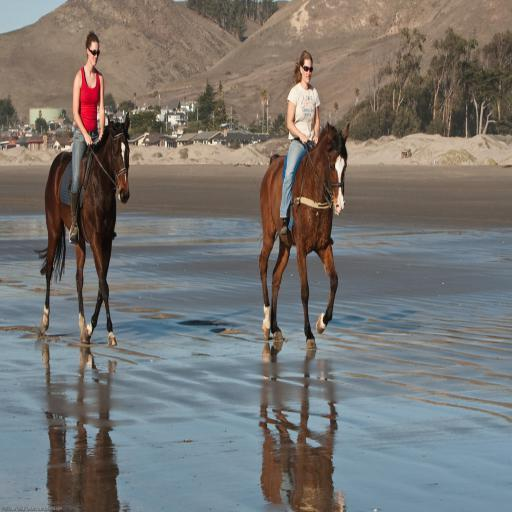horse: (34, 110, 130, 346), (256, 120, 352, 350)
